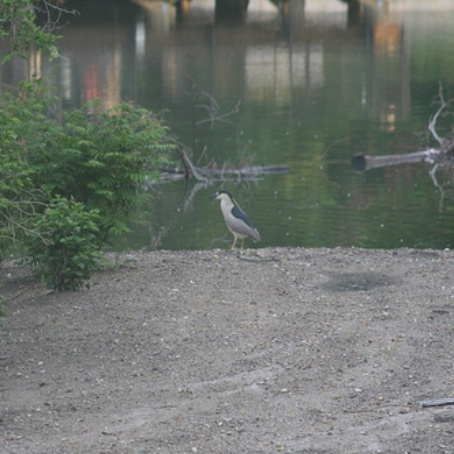animal: (208, 186, 259, 252)
river: (27, 1, 454, 231)
vegetation: (1, 99, 148, 267)
